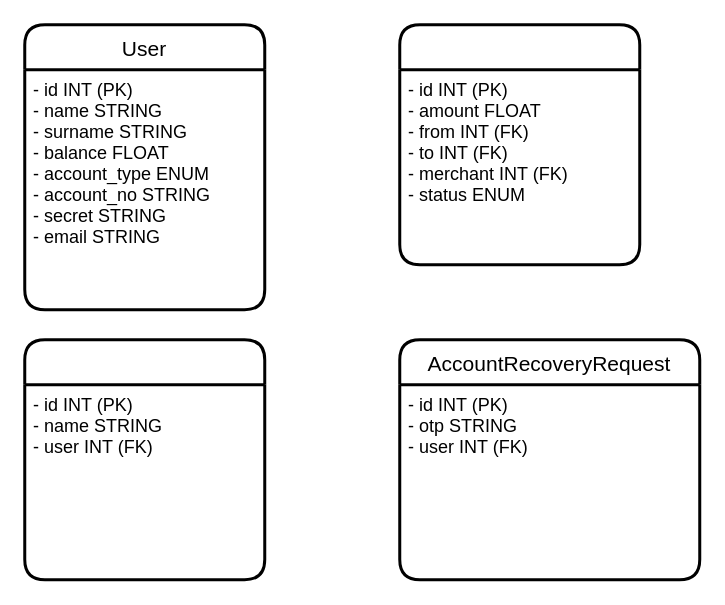
Image size: 725x605. Some labels were removed from this diagram. Here are the shapes that lost their labels. From the top down, the box of each, then its label:
(398, 22, 640, 266): Transaction
(22, 338, 266, 580): Merchant
